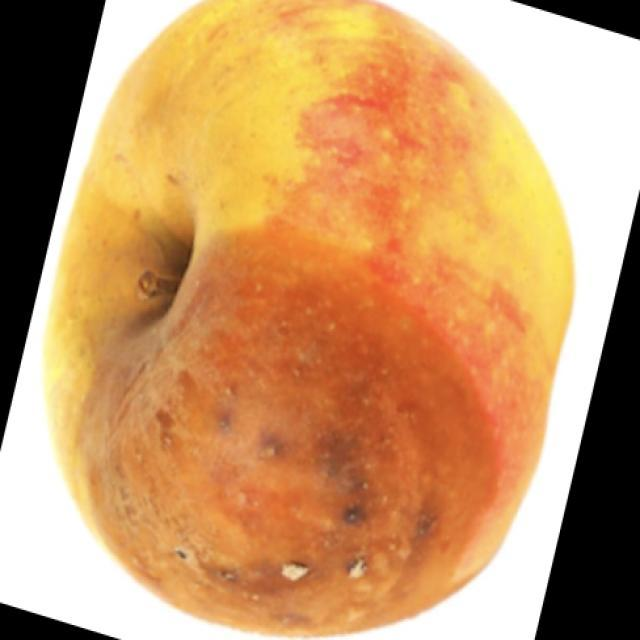Rotten: (68, 10, 570, 640)
